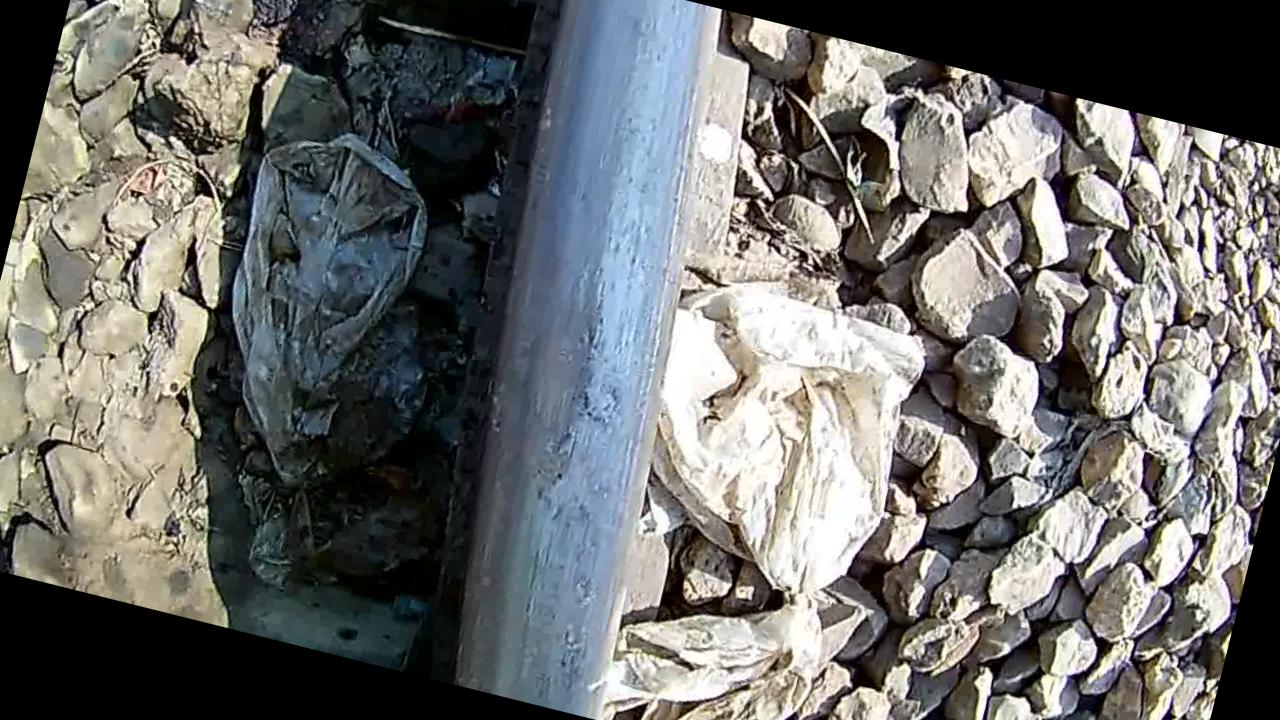bolt_missing: (388, 209, 712, 673)
